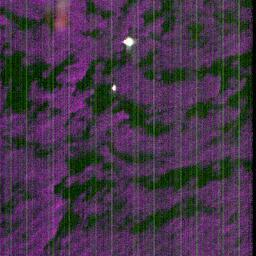Ship: (120, 34, 137, 48), (109, 82, 117, 93)
